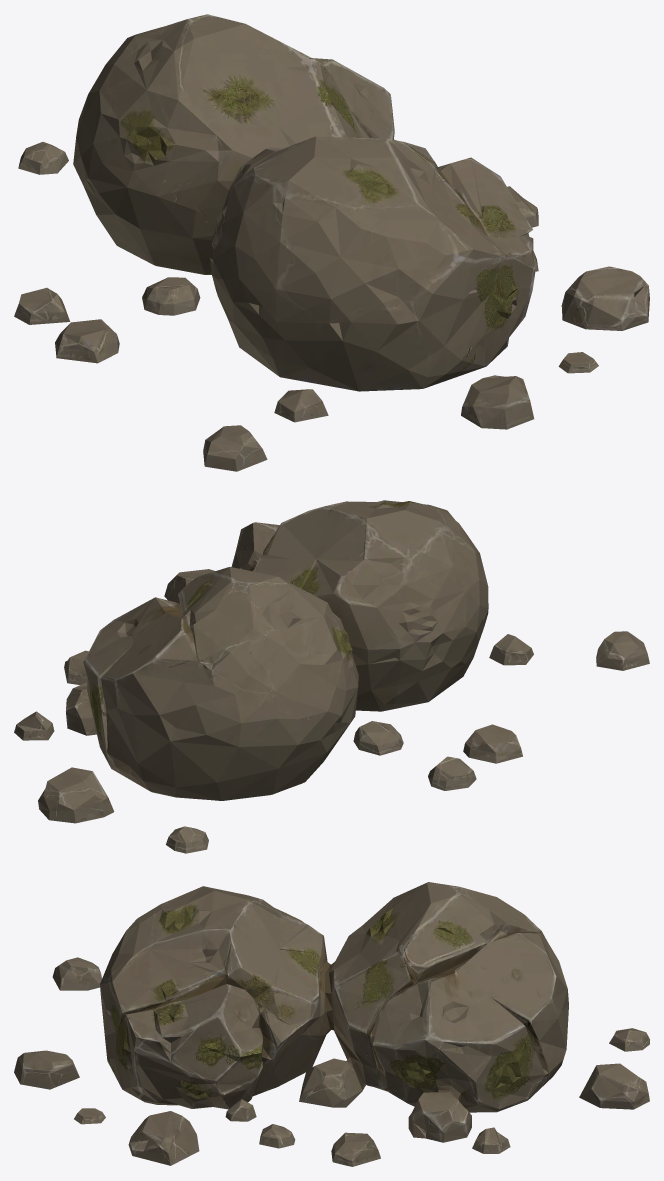
The model's file is rocks_small_LOD0.glb.
3 renders of one model, top to bottom at view 1: azimuth 30°, elevation 25°; view 2: azimuth 150°, elevation 25°; view 3: azimuth 270°, elevation 25°, orthographic. The views are drawn at different scales.
Visible parts, largest first — view 1: rocks_small_LOD0; view 2: rocks_small_LOD0; view 3: rocks_small_LOD0.
Part boxes in pixels (left/top/right/bottom): rocks_small_LOD0: left=14, top=14, right=649, bottom=471; rocks_small_LOD0: left=14, top=500, right=649, bottom=853; rocks_small_LOD0: left=14, top=882, right=649, bottom=1166.
Size of the model in its own units: 0.7338 by 0.2954 by 0.9998.
Materials: 1 (1 with a texture image).
